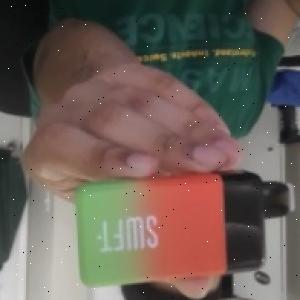Swift-E-Ciggirate: (69, 166, 296, 289)
